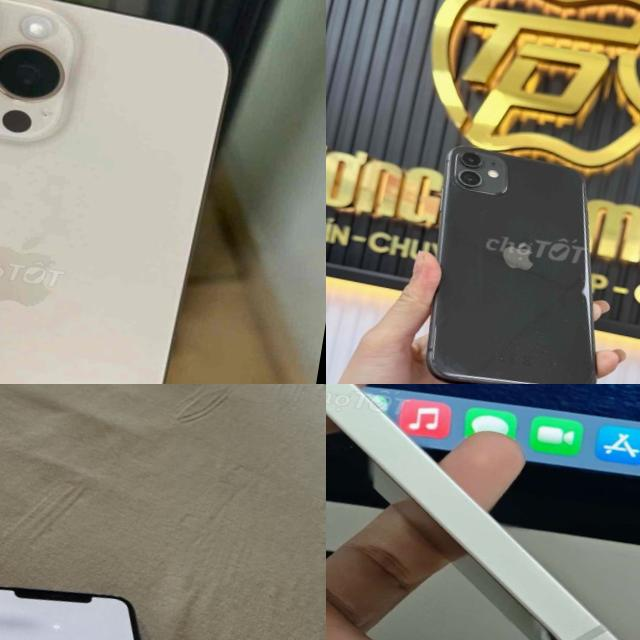scratch: (429, 296, 593, 384), (564, 260, 596, 306), (452, 148, 486, 189)
